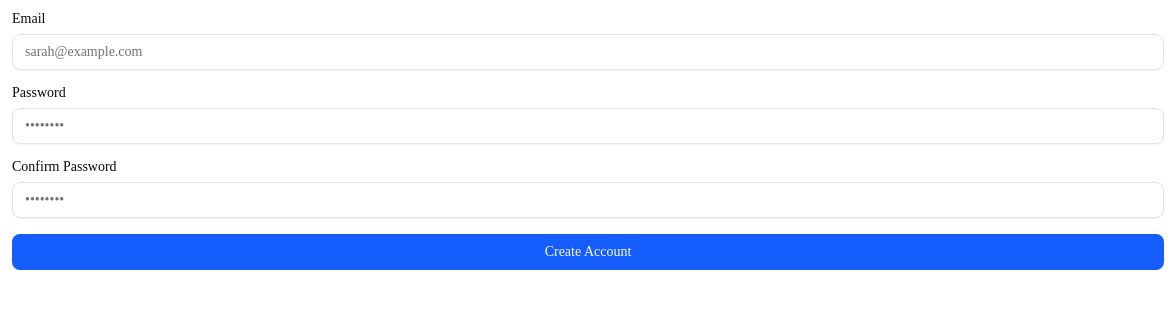
RegisterForm › shows password strength indicator
Type "Weak1!" into the password field labelled "Password" at (588, 126), box [12, 108, 1164, 144]
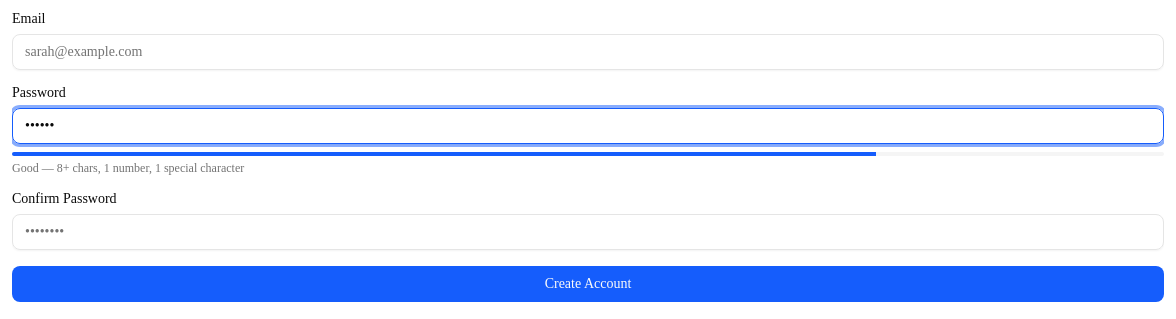
Expected: the text "Good — 8+ chars, 1 number, 1 special character" is shown, [12, 161, 244, 175]
